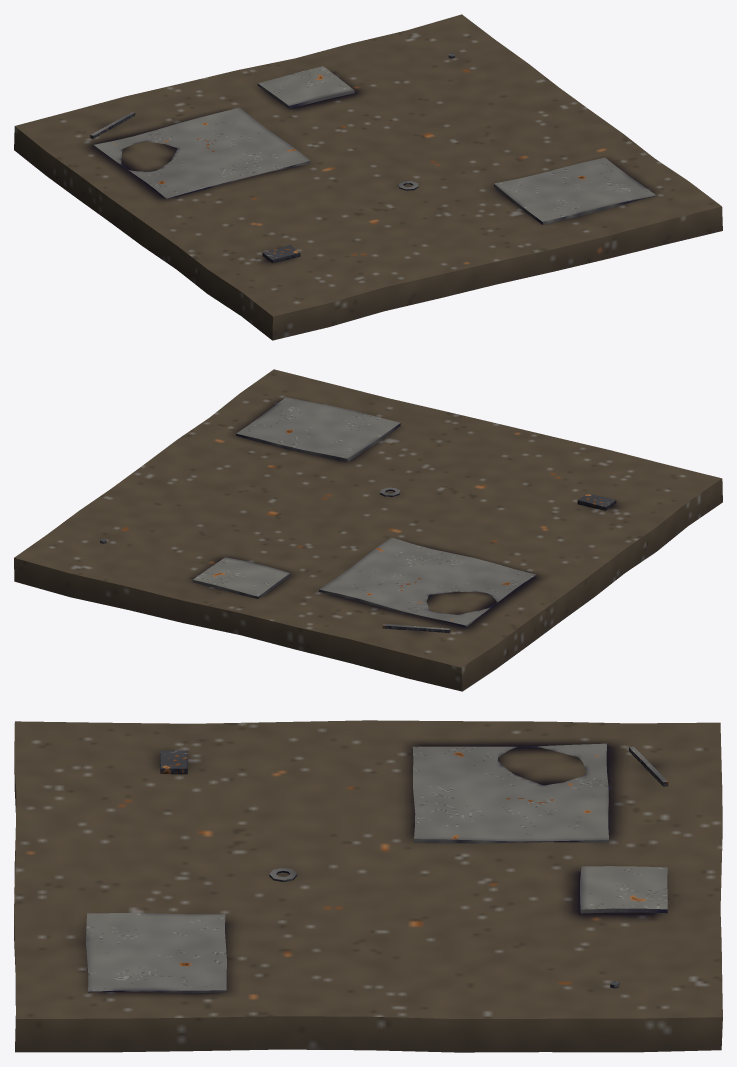
Rendered from GroundTile.glb.
3 renders of one model, top to bottom at view 1: azimuth 30°, elevation 25°; view 2: azimuth 150°, elevation 25°; view 3: azimuth 270°, elevation 25°, orthographic. The views are drawn at different scales.
Visible parts, largest first — view 1: Dirt, Slabs, Scrap; view 2: Dirt, Slabs, Scrap; view 3: Dirt, Slabs, Scrap.
Boxes of the visible parts, box(x1,y1,x2,y2) form: Dirt: box(14, 14, 722, 340); Slabs: box(93, 66, 656, 224); Scrap: box(90, 53, 455, 263); Dirt: box(14, 369, 722, 691); Slabs: box(192, 397, 536, 627); Scrap: box(100, 487, 616, 633); Dirt: box(14, 720, 722, 1052); Slabs: box(86, 743, 667, 993); Scrap: box(160, 746, 668, 988).
Size of the model in its own units: 8.05 by 0.5188 by 8.06.
3 materials, 3 textured.
